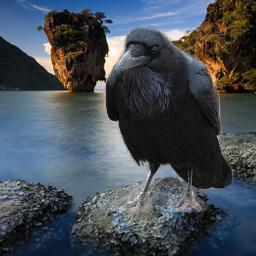Crow: (103, 25, 234, 212)
